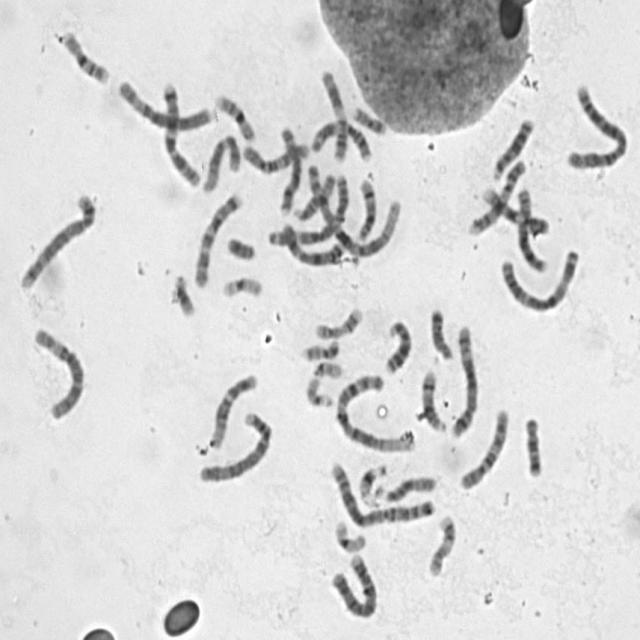A1: (302, 157, 404, 260), (331, 368, 419, 454)
A2: (326, 459, 437, 529), (562, 79, 631, 170)
A3: (262, 169, 348, 249), (496, 244, 582, 314)
B4: (195, 406, 275, 485), (327, 547, 380, 620)
B5: (16, 188, 98, 292), (448, 321, 480, 439)
C10: (456, 404, 511, 494), (240, 137, 314, 176)
C11: (317, 64, 351, 164), (306, 114, 374, 163)
C12: (207, 368, 260, 450), (199, 130, 242, 194)
C6: (114, 74, 216, 134), (29, 322, 88, 423)
C7: (192, 187, 246, 290), (156, 77, 203, 189)
C8: (513, 183, 550, 275), (275, 122, 304, 216)
C9: (464, 155, 528, 237), (478, 182, 551, 238)
D13: (488, 113, 536, 182), (382, 315, 414, 375)
D14: (417, 365, 449, 435), (353, 173, 378, 242)
D15: (290, 167, 340, 223), (380, 472, 438, 504)
E16: (58, 25, 112, 86), (211, 89, 258, 143)
E17: (424, 509, 458, 578), (310, 303, 365, 341)
E18: (426, 303, 455, 362), (520, 412, 545, 478)
F19: (331, 515, 369, 554), (218, 270, 265, 301)
F20: (348, 100, 388, 136), (299, 335, 342, 362)
G21: (355, 459, 390, 507), (169, 268, 197, 319)
G22: (302, 372, 335, 410), (310, 358, 344, 380)
X: (272, 219, 348, 268)
Y: (223, 232, 258, 262)
